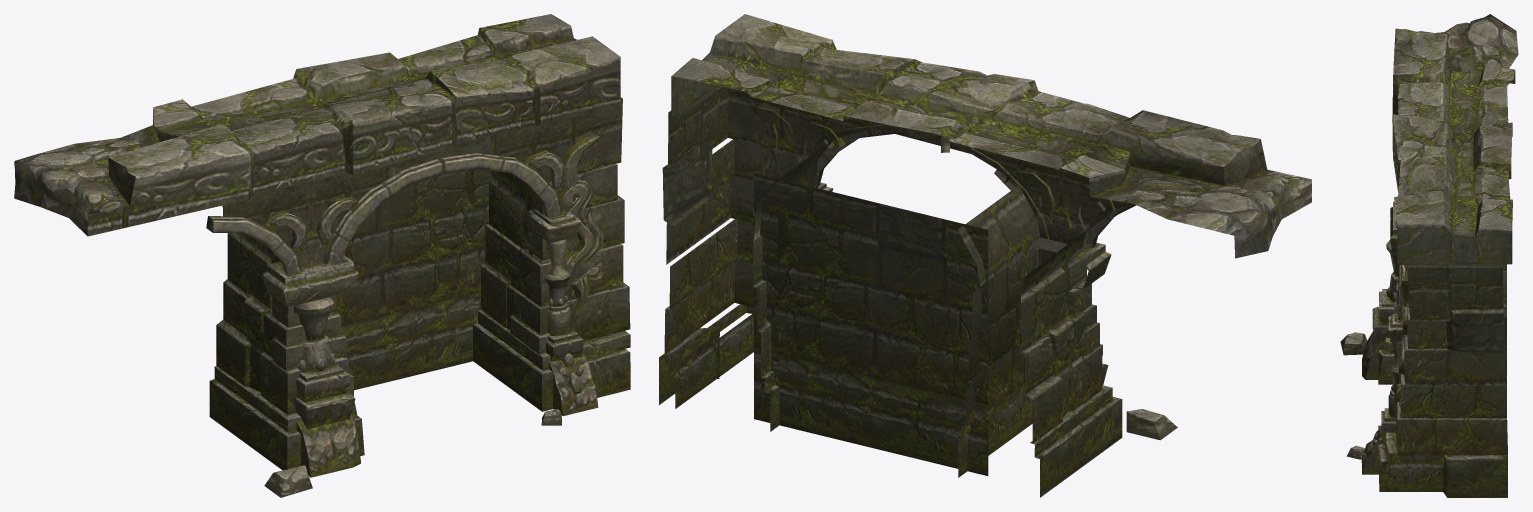
Rendered from 4009_Item_qiang_3.FBX.
3 renders of one model, left to right at view 1: azimuth 30°, elevation 25°; view 2: azimuth 150°, elevation 25°; view 3: azimuth 270°, elevation 25°, orthographic. The views are drawn at different scales.
Visible parts, largest first — view 1: 4009_Item_qiang_3; view 2: 4009_Item_qiang_3; view 3: 4009_Item_qiang_3.
Boxes of the visible parts, x1,y1,x2,y2 form: 4009_Item_qiang_3: (14, 14, 630, 497); 4009_Item_qiang_3: (659, 14, 1311, 497); 4009_Item_qiang_3: (1340, 14, 1518, 497).
Bounding box in the file's own units: 848 × 471 × 280.
